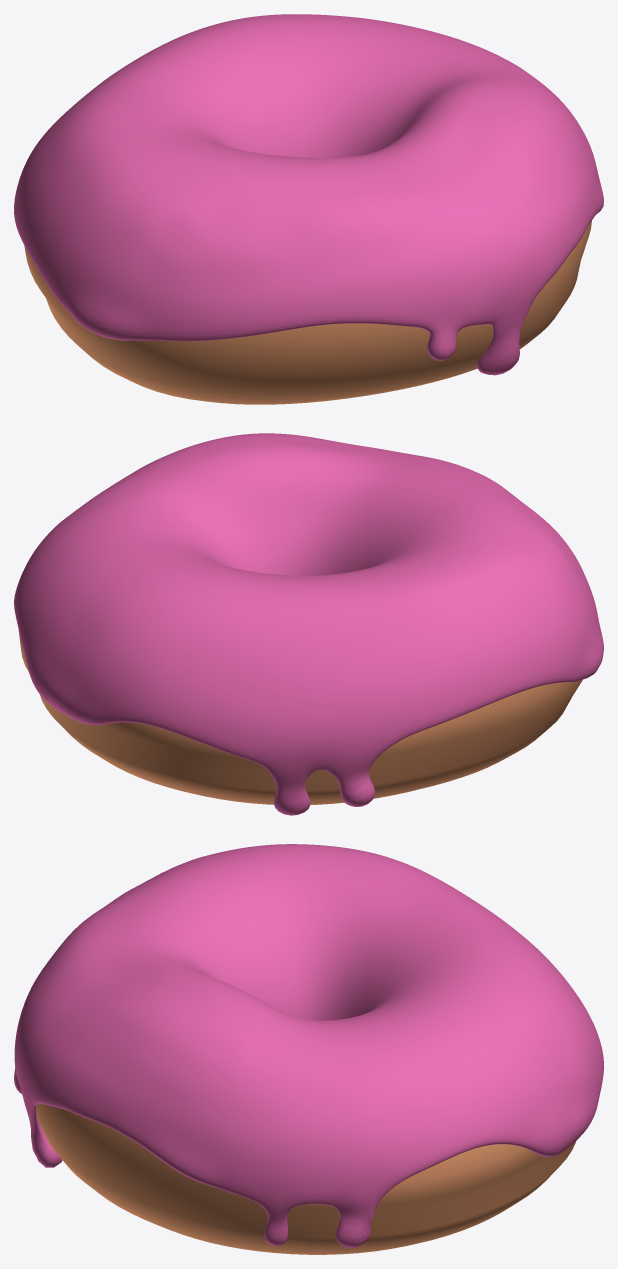
The model's file is Donut.fbx.
3 views of the same model, one above another, from view 1: azimuth 30°, elevation 25°; view 2: azimuth 150°, elevation 25°; view 3: azimuth 270°, elevation 25° (orthographic). The views are drawn at different scales.
Parts seen in each view (by area): view 1: Icing, Donut; view 2: Icing, Donut; view 3: Icing, Donut.
Part boxes in pixels (x1,y1,x2,y2): Icing: [14, 14, 603, 375]; Donut: [24, 221, 591, 404]; Icing: [14, 433, 603, 815]; Donut: [18, 630, 582, 804]; Icing: [14, 844, 603, 1247]; Donut: [36, 1103, 576, 1254].
Size of what is drawn, in the model's own units: 12 by 5.06 by 11.49.
